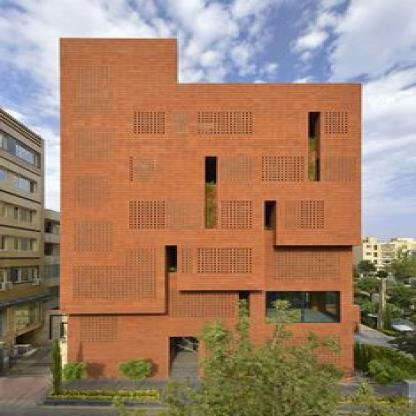Building Outline: (60, 38, 361, 381)
Door: (168, 337, 198, 380)
Facade: (60, 38, 361, 382)
Glass Wall: (265, 291, 340, 322)
Window: (74, 246, 156, 299), (276, 246, 340, 282), (266, 337, 344, 363), (168, 292, 234, 317), (197, 247, 252, 274), (76, 67, 112, 104), (76, 219, 112, 252), (197, 112, 252, 133), (262, 156, 306, 182), (76, 316, 115, 342), (204, 337, 243, 363), (76, 178, 112, 206), (76, 132, 112, 160), (130, 202, 167, 229), (308, 112, 320, 181), (222, 202, 252, 229), (301, 202, 326, 229), (128, 158, 160, 179), (133, 112, 165, 133), (326, 112, 347, 133), (264, 200, 276, 230), (165, 245, 177, 274), (205, 157, 216, 185), (239, 291, 250, 318)
